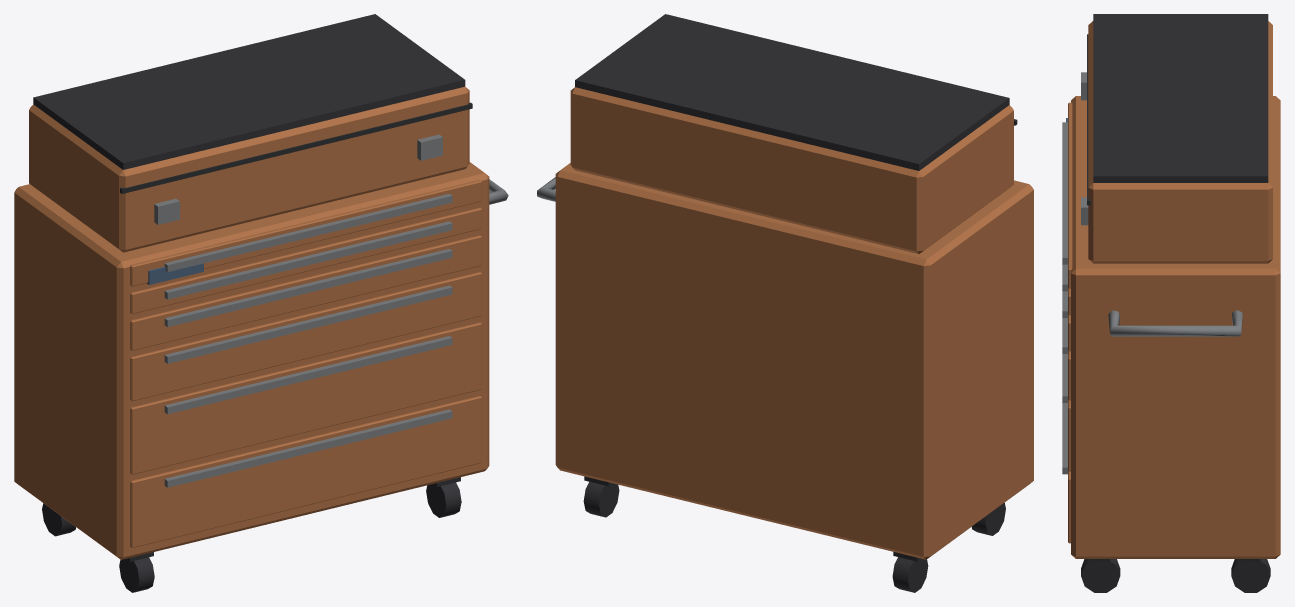
Rendered from astro_tool_chest.fbx.
The picture shows the model from 3 angles, left to right: view 1: azimuth 30°, elevation 25°; view 2: azimuth 150°, elevation 25°; view 3: azimuth 270°, elevation 25°; orthographic projection. The views are drawn at different scales.
Parts seen in each view (by area): view 1: ToolChest_Body; view 2: ToolChest_Body; view 3: ToolChest_Body.
Part boxes in pixels (left/top/right/bottom): ToolChest_Body: left=14, top=14, right=508, bottom=592; ToolChest_Body: left=537, top=14, right=1033, bottom=592; ToolChest_Body: left=1062, top=14, right=1280, bottom=592.
Bounding box in the file's own units: 187 × 189 × 88.5.
